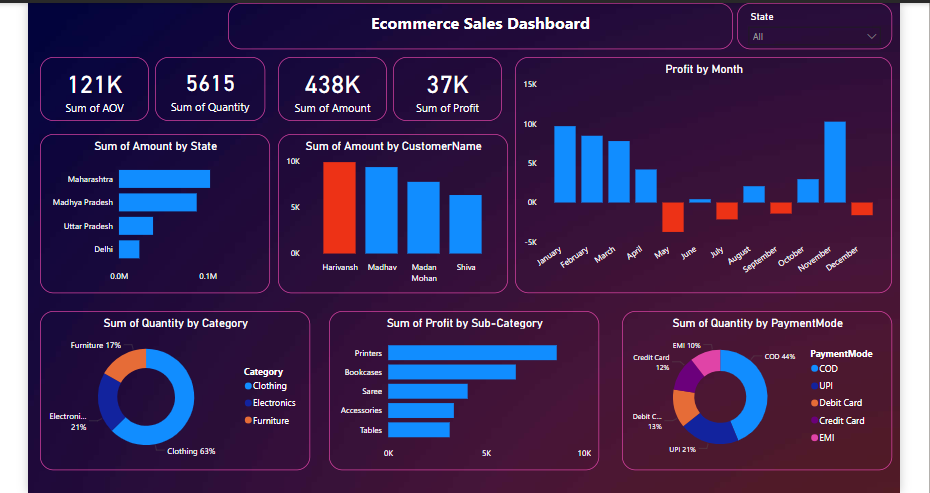

This screenshot's page, from the dashboard's own definition file:
{"tool":"powerbi","page":{"name":"Page 1","canvas":[1280,720],"ordinal":0},"visuals":[{"type":"columnChart","title":"Profit by Month","fields":{"Category":["Orders.Order Date.Variation.Date Hierarchy.Month"],"Y":["Details.Profit"]},"box":[715.6,79.3,554,346.8],"z":0},{"type":"textbox","box":[293.9,0,742,67.6],"z":1000},{"type":"barChart","fields":{"Category":["Details.Sub-Category"],"Y":["Details.Profit"]},"box":[442.3,452.6,396.7,233.6],"z":2000},{"type":"donutChart","fields":{"Category":["Details.Category"],"Y":["Details.Quantity"]},"box":[17.6,452.6,396.7,233.6],"z":3000},{"type":"donutChart","fields":{"Y":["Details.Quantity"],"Category":["Details.PaymentMode"]},"box":[872.8,452.6,396.7,233.6],"z":4000},{"type":"card","fields":{"Values":["Details.Amount"]},"box":[367.3,79.3,160.2,94],"z":5000},{"type":"card","fields":{"Values":["Details.Profit"]},"box":[536.3,79.3,160.2,94],"z":6000},{"type":"card","fields":{"Values":["Details.Quantity"]},"box":[186.6,79.3,161.6,94],"z":7000},{"type":"barChart","fields":{"Category":["Orders.State"],"Y":["Details.Amount"]},"box":[17.6,192.5,338,233.6],"z":8000},{"type":"columnChart","fields":{"Category":["Orders.CustomerName"],"Y":["Details.Amount"]},"box":[367.3,192.5,338,233.6],"z":9000},{"type":"slicer","fields":{"Values":["Orders.State"]},"box":[1041.8,0,227.8,67.6],"z":9001},{"type":"card","fields":{"Values":["Details.AOV"]},"box":[17.6,79.3,160.2,94],"z":9002}]}

Visuals, with their boxes on the page's 1280x720 design canvas (x1, y1, x2, y2). These are canvas units, not pixel positions in the 930x493 screenshot, which may show the page scaled, cropped or inside an application window:
"Profit by Month" columnChart: <region>716, 79, 1270, 426</region>
textbox: <region>294, 0, 1036, 68</region>
barChart - Details.Sub-Category x Details.Profit: <region>442, 453, 839, 686</region>
donutChart - Details.Category x Details.Quantity: <region>18, 453, 414, 686</region>
donutChart - Details.Quantity x Details.PaymentMode: <region>873, 453, 1270, 686</region>
card - Details.Amount: <region>367, 79, 528, 173</region>
card - Details.Profit: <region>536, 79, 696, 173</region>
card - Details.Quantity: <region>187, 79, 348, 173</region>
barChart - Orders.State x Details.Amount: <region>18, 192, 356, 426</region>
columnChart - Orders.CustomerName x Details.Amount: <region>367, 192, 705, 426</region>
slicer - Orders.State: <region>1042, 0, 1270, 68</region>
card - Details.AOV: <region>18, 79, 178, 173</region>
